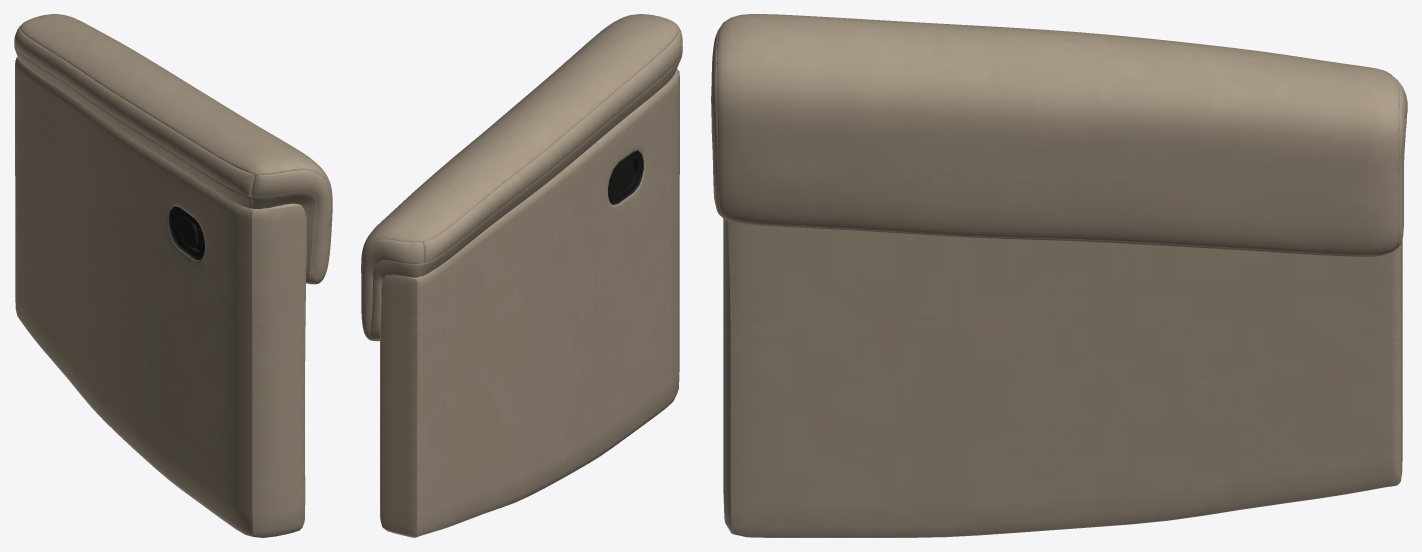
Rendered from armrest.glb.
3 views of the same model, side by side, from view 1: azimuth 30°, elevation 25°; view 2: azimuth 150°, elevation 25°; view 3: azimuth 270°, elevation 25° (orthographic). The views are drawn at different scales.
Visible parts, largest first — view 1: Armrest; view 2: Armrest; view 3: Armrest.
Part boxes in pixels (bbox=[...]): Armrest: bbox=[14, 14, 332, 537]; Armrest: bbox=[361, 14, 682, 537]; Armrest: bbox=[711, 14, 1407, 537].
Bounding box in the file's own units: 0.1524 × 0.6228 × 0.7826.
Materials: 1 (1 with a texture image).
